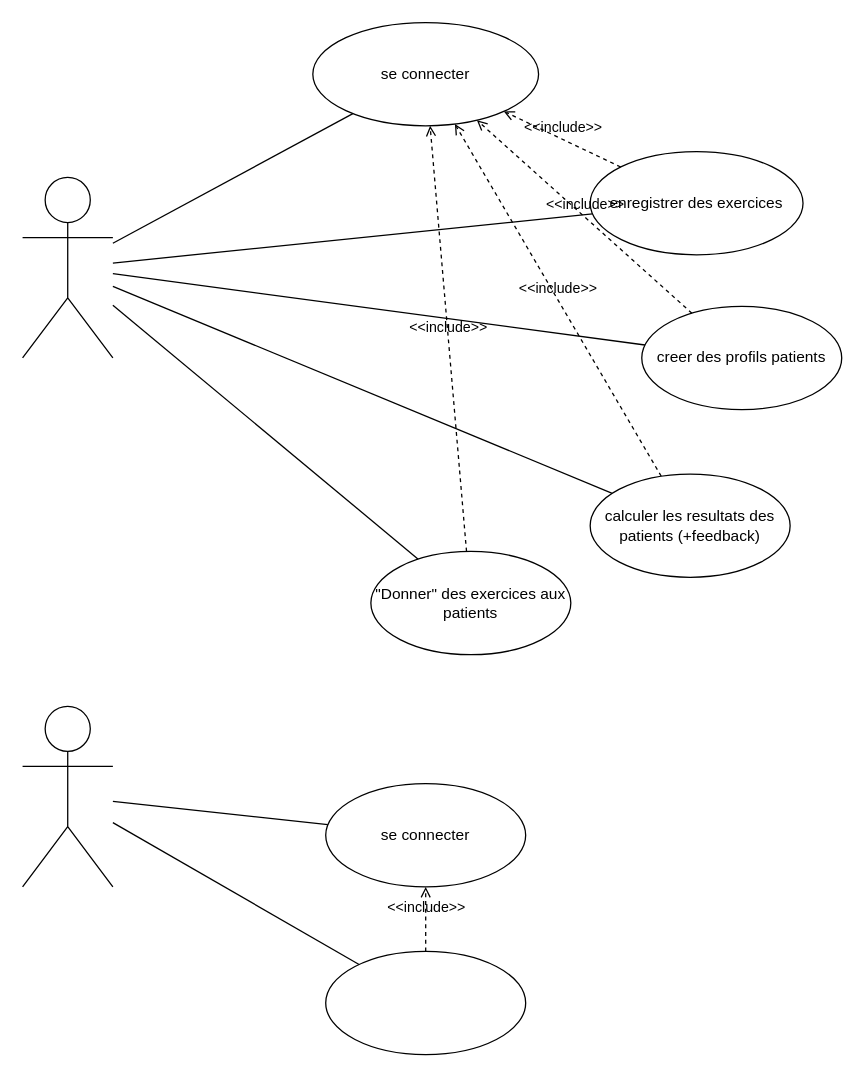
The diagram is 864 pixels wide and 1077 high, and some of its shapes have lost their labels. The centre of each missing label's shape, as x and y in pixels:
faire les exercices défini par le profil medical: point (425, 1002)
user medical: point (67, 267)
user patient: point (67, 796)
